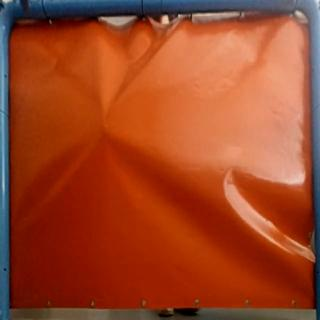Hit-hRxx: (96, 119, 115, 137)
